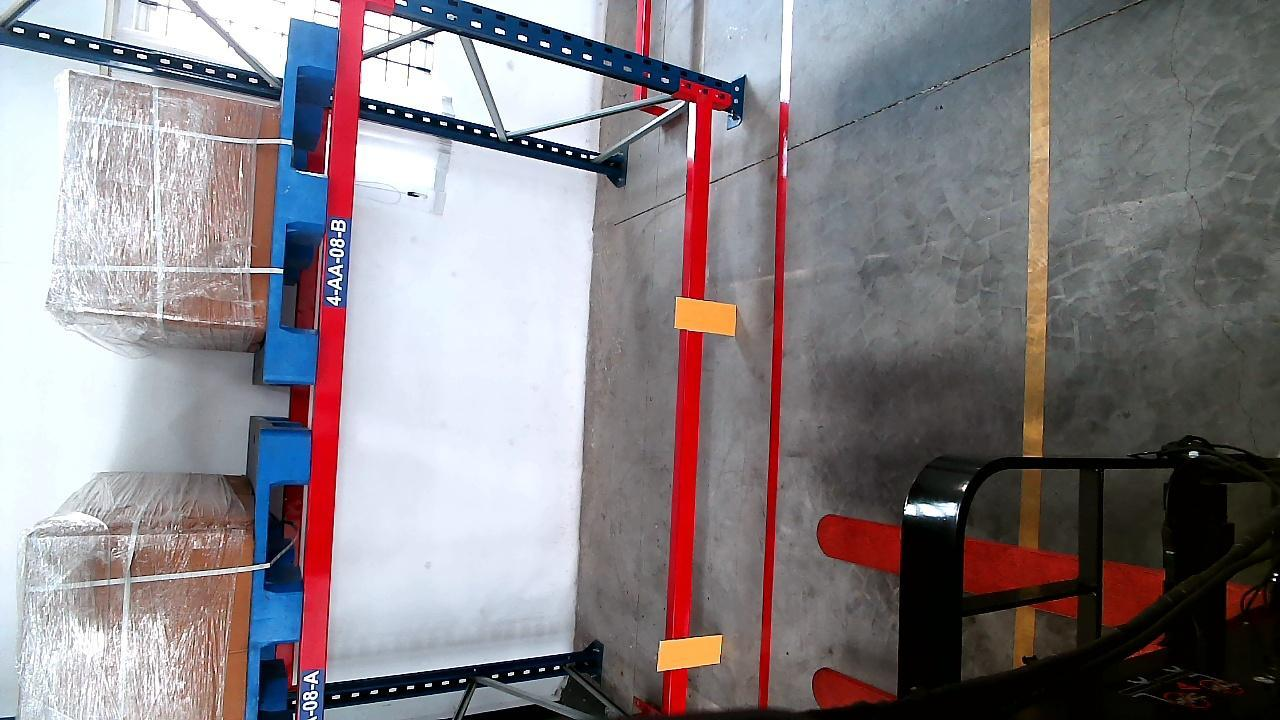red_line: (757, 100, 796, 706)
yellow_line: (1023, 0, 1052, 514)
